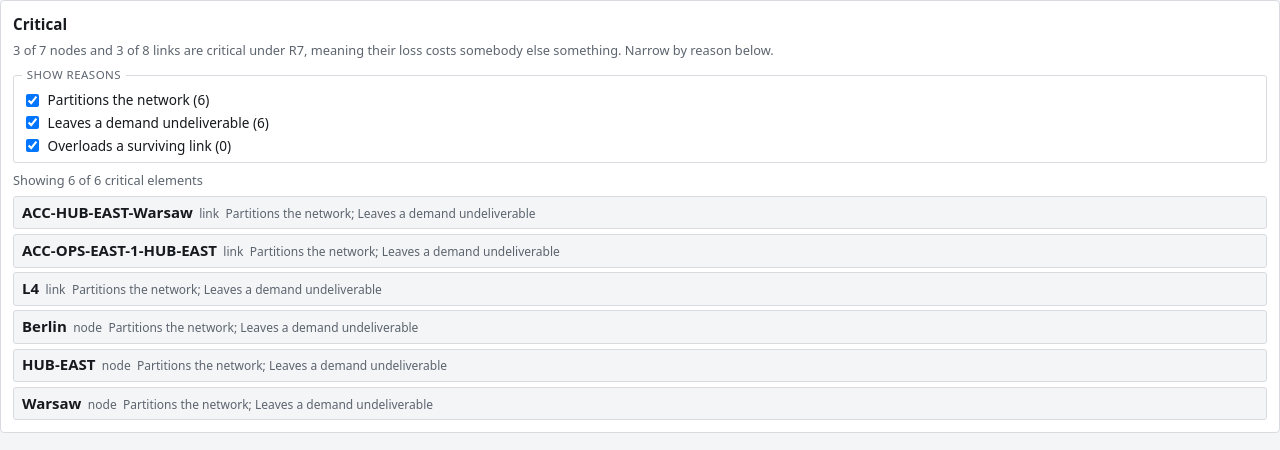
Scenario: CriticalPanel › narrows the list only when every reason an element carries is cleared
This screenshot has width=1280, height=450.
Check: the text "Showing 6 of 6 critical elements" is shown, box [13,171,203,189]
Click the checkbox labelled "Partitions the network (6)" at (32, 100), box [26,94,39,107]
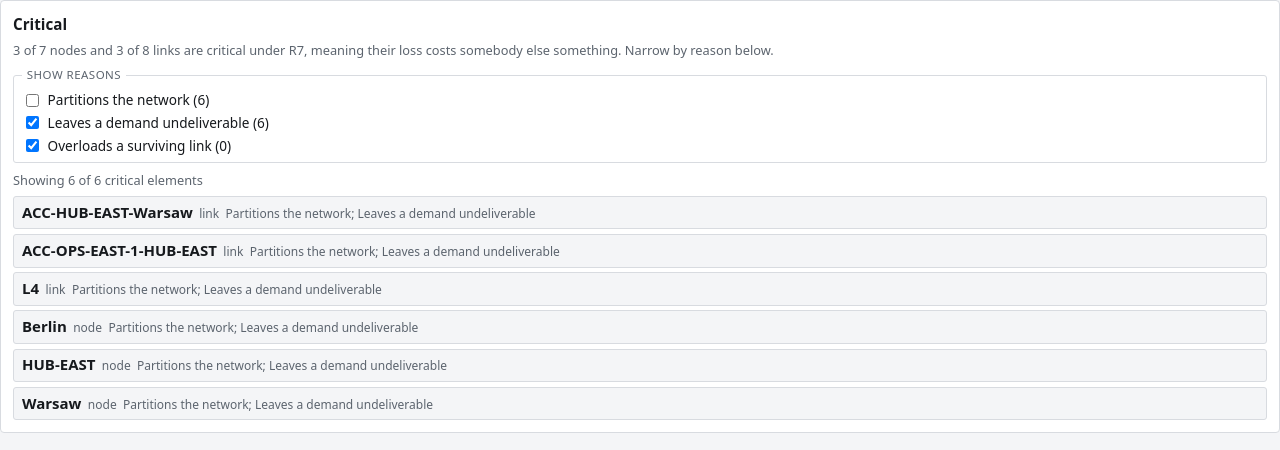
Check: the text "Showing 6 of 6 critical elements" is shown, box [13,171,203,189]
Check: the text "Warsaw" is shown, box [22,393,81,414]
Click the checkbox labelled "Leaves a demand undeliverable (6)" at (32, 123), box [26,116,39,130]
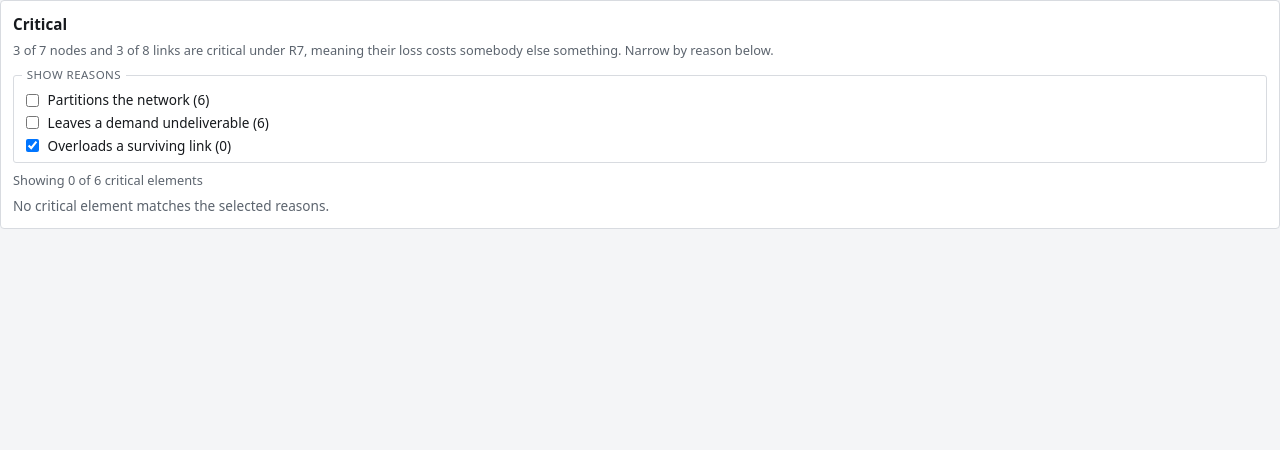
Check: the text "Showing 0 of 6 critical elements" is shown, box [13,171,203,189]
